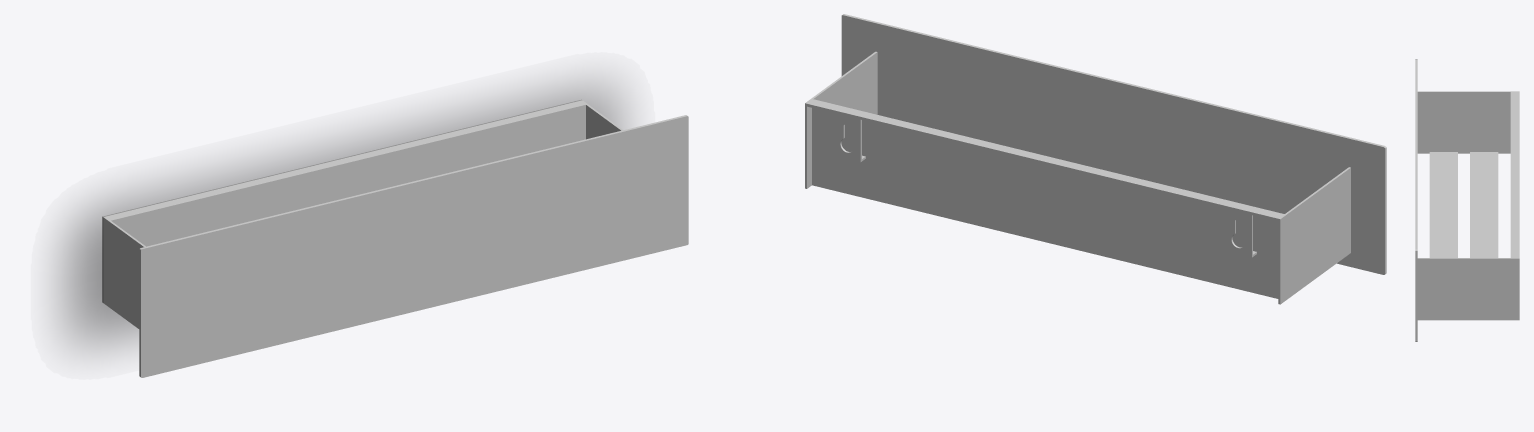
The model's file is skyline-mono.d91ee76a45.ar.glb.
3 renders of one model, left to right at view 1: azimuth 30°, elevation 25°; view 2: azimuth 150°, elevation 25°; view 3: azimuth 270°, elevation 25°, orthographic. The views are drawn at different scales.
Visible parts, largest first — view 1: NAUO1, object 2; view 2: NAUO1; view 3: NAUO1.
Boxes of the visible parts, box(x1,y1,x2,y2) form: NAUO1: box(102, 99, 688, 377); object 2: box(57, 82, 627, 349); NAUO1: box(805, 14, 1386, 304); NAUO1: box(1415, 59, 1519, 341).
Size of the model in its own units: 0.48 by 0.17 by 0.092.
Materials: 2 (1 with a texture image).
